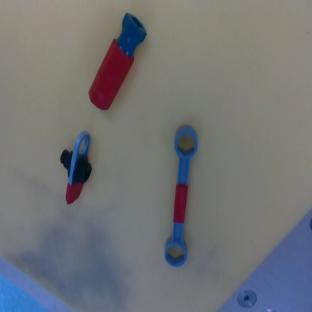part_1_good: (59, 132, 92, 204)
part_2_good: (83, 12, 151, 113)
part_3_good: (163, 124, 199, 267)
